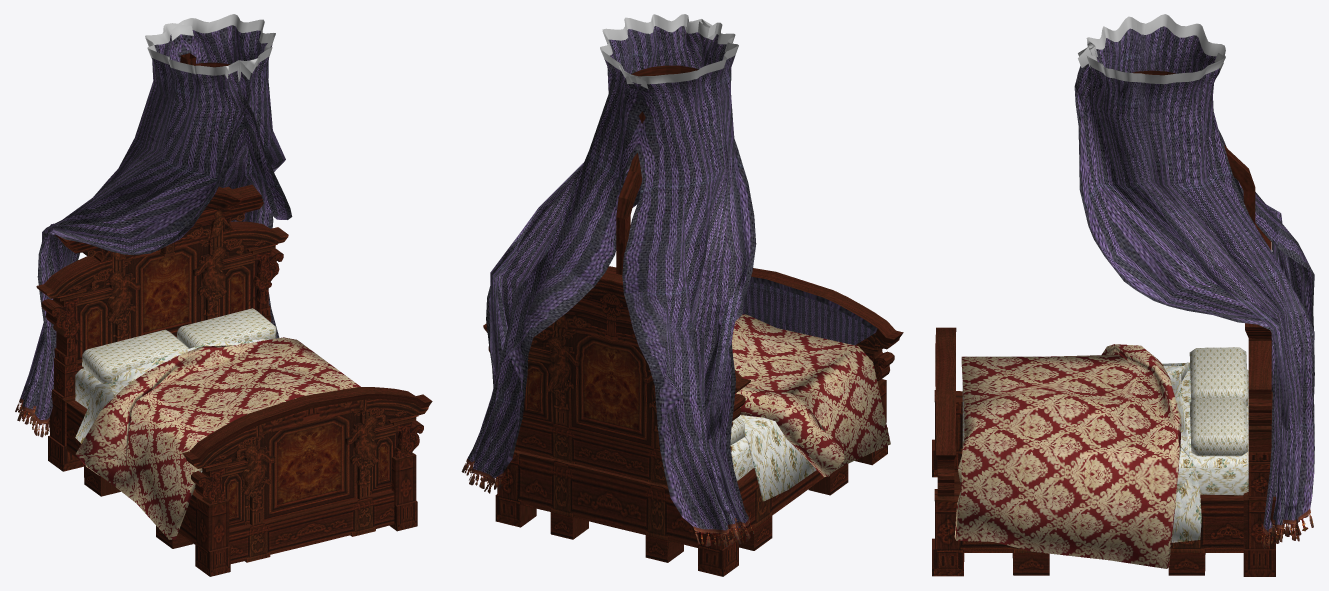
Rendered from CanopyBed.fbx.
3 renders of one model, left to right at view 1: azimuth 30°, elevation 25°; view 2: azimuth 150°, elevation 25°; view 3: azimuth 270°, elevation 25°, orthographic. The views are drawn at different scales.
Visible parts, largest first — view 1: Bed_Canopy_LOD0; view 2: Bed_Canopy_LOD0; view 3: Bed_Canopy_LOD0.
Part boxes in pixels (box(x1,y1,x2,y2)): Bed_Canopy_LOD0: box(15, 14, 432, 576); Bed_Canopy_LOD0: box(461, 14, 903, 576); Bed_Canopy_LOD0: box(932, 14, 1314, 576).
Size of what is drawn, in the model's own units: 426 by 624 by 455.
